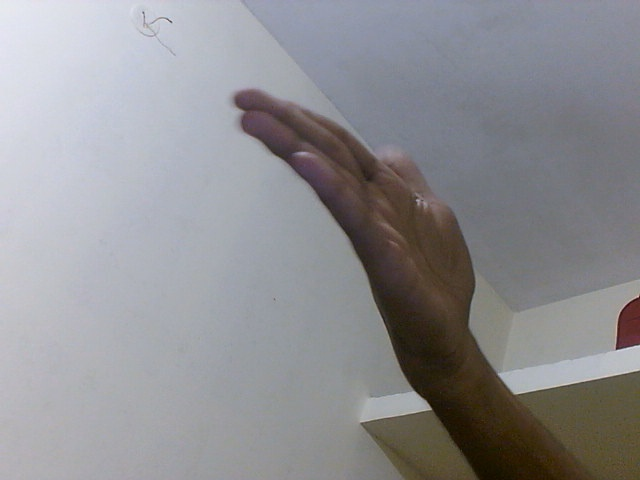hand: (233, 80, 479, 357)
